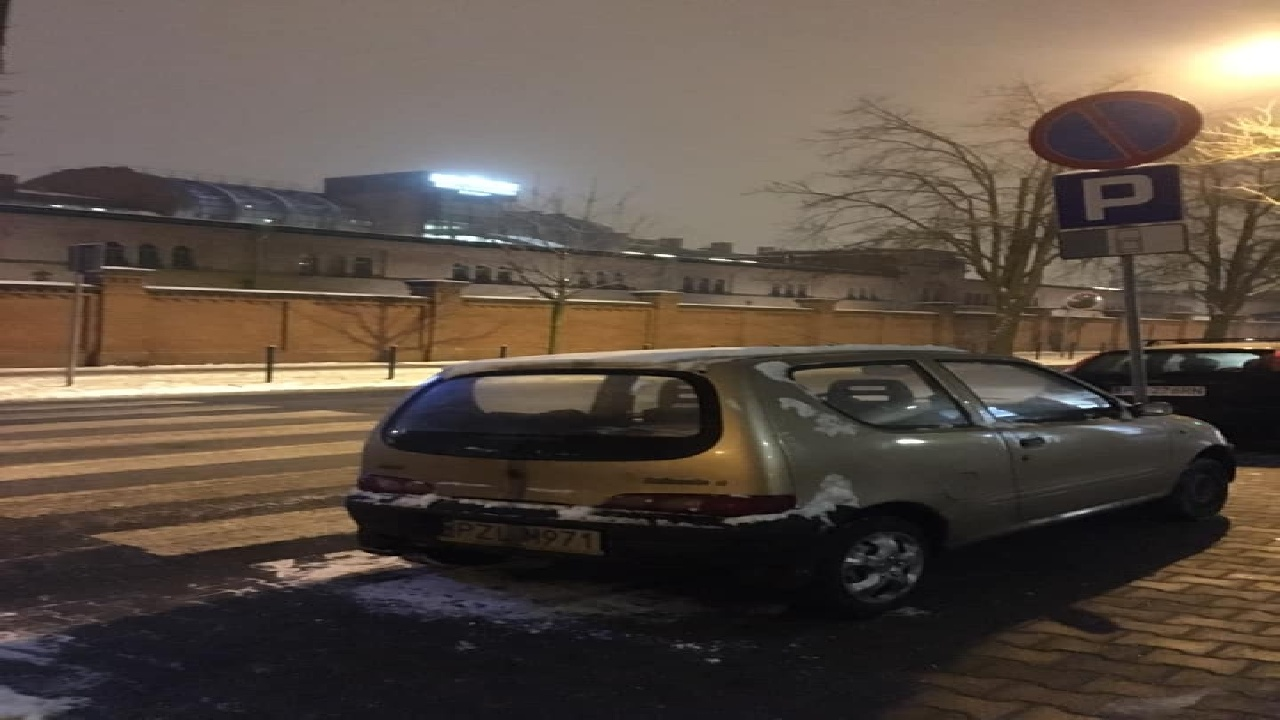B36: (1022, 85, 1205, 168)
D18: (1042, 163, 1193, 226)
